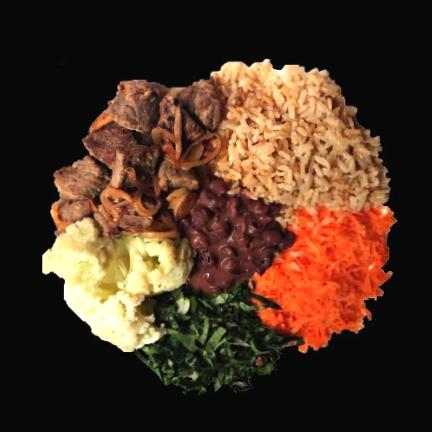beans: (181, 180, 295, 292)
carrot: (253, 206, 399, 353)
cauliflower: (42, 220, 194, 348)
meat: (53, 77, 223, 233)
rice: (215, 62, 391, 205)
salad: (134, 280, 285, 389)
